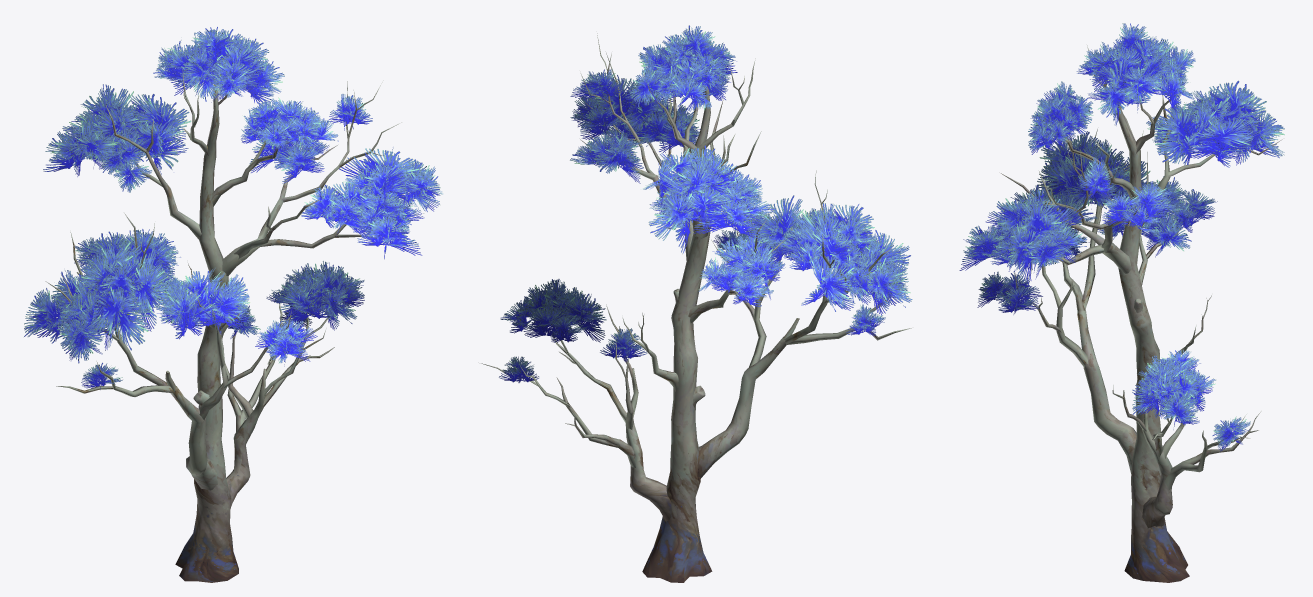
The model's file is DqTree.fbx.
3 renders of one model, left to right at view 1: azimuth 30°, elevation 25°; view 2: azimuth 150°, elevation 25°; view 3: azimuth 270°, elevation 25°, orthographic. The views are drawn at different scales.
Parts seen in each view (by area): view 1: Area_Dq_Tree_Common_Pt_03_01_Leaf_Lod0, Area_Dq_Tree_Common_Pt_03_01_Bark_Lod0; view 2: Area_Dq_Tree_Common_Pt_03_01_Leaf_Lod0, Area_Dq_Tree_Common_Pt_03_01_Bark_Lod0; view 3: Area_Dq_Tree_Common_Pt_03_01_Leaf_Lod0, Area_Dq_Tree_Common_Pt_03_01_Bark_Lod0.
Boxes of the visible parts, x1,y1,x2,y2 form: Area_Dq_Tree_Common_Pt_03_01_Leaf_Lod0: (24, 27, 442, 389); Area_Dq_Tree_Common_Pt_03_01_Bark_Lod0: (45, 70, 423, 582); Area_Dq_Tree_Common_Pt_03_01_Leaf_Lod0: (499, 25, 912, 382); Area_Dq_Tree_Common_Pt_03_01_Bark_Lod0: (481, 33, 911, 582); Area_Dq_Tree_Common_Pt_03_01_Leaf_Lod0: (959, 23, 1284, 451); Area_Dq_Tree_Common_Pt_03_01_Bark_Lod0: (987, 45, 1282, 582).
Size of the model in its own units: 1725 by 2339 by 1342.
Materials: 2 (2 with a texture image).
